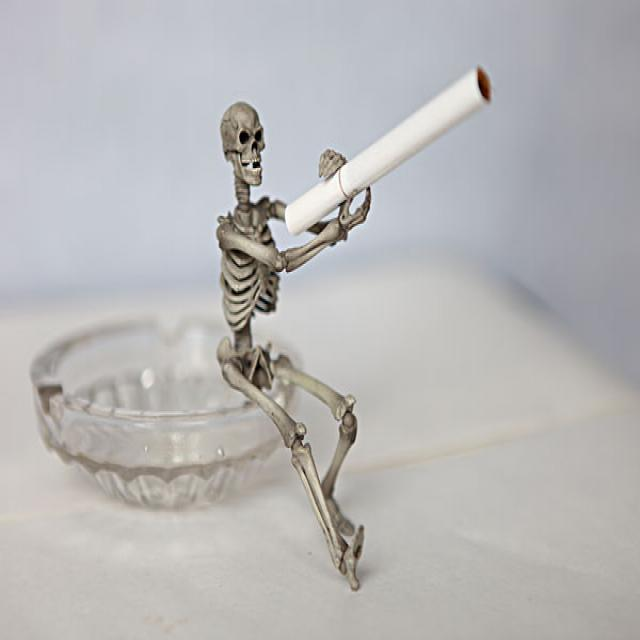smoking: (285, 64, 492, 237)
